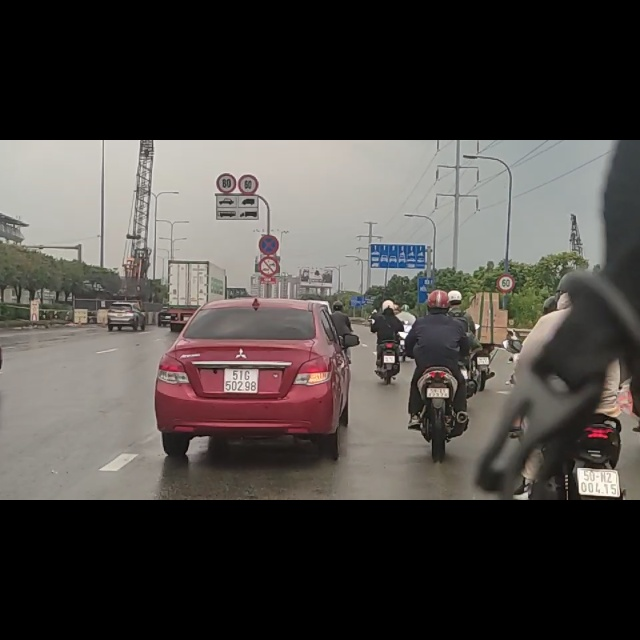bien_chi_dan: (215, 58, 237, 96), (258, 167, 279, 204), (238, 60, 259, 97)
